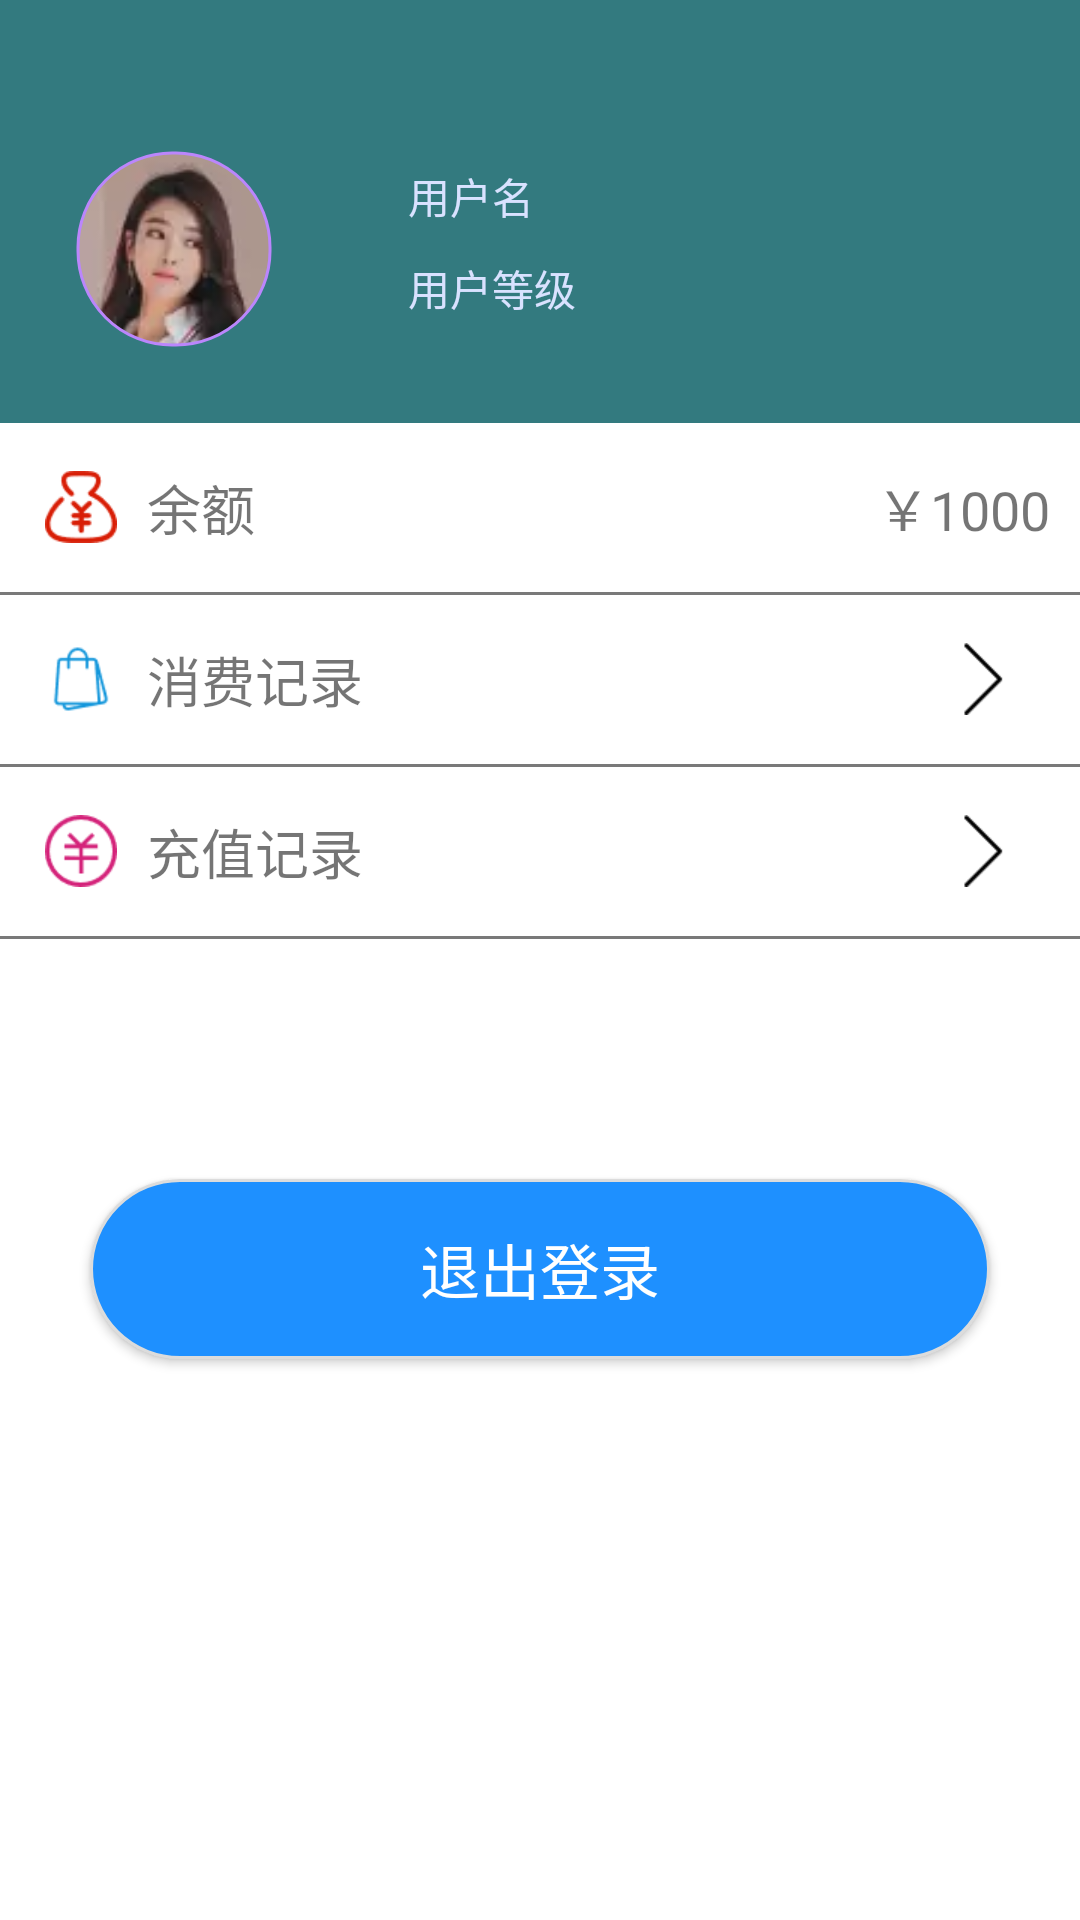

Named icons in this screenshot (1080 x 1920) and their bounding boxes, (x1,y1,x2,y2):
balance: (45,471,117,543)
buy record: (53,647,108,711)
head: (76,151,272,347)
recharge: (45,815,117,887)
right arrow: (964,643,1003,715), (964,815,1003,887)
